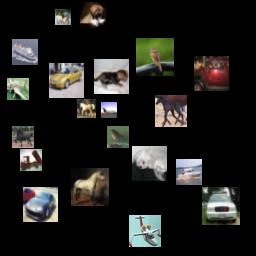airplane: (129, 215, 161, 247), (7, 78, 29, 100), (101, 102, 117, 118)
automobile: (202, 187, 240, 225), (23, 187, 58, 222), (194, 56, 229, 91), (49, 63, 84, 98)
bird: (136, 38, 174, 76), (107, 126, 129, 148)
cat: (94, 59, 129, 94)
dog: (132, 146, 167, 181), (80, 2, 106, 28), (55, 9, 71, 25)
ship: (176, 159, 202, 185), (12, 39, 38, 65)
truck: (20, 149, 42, 171)
